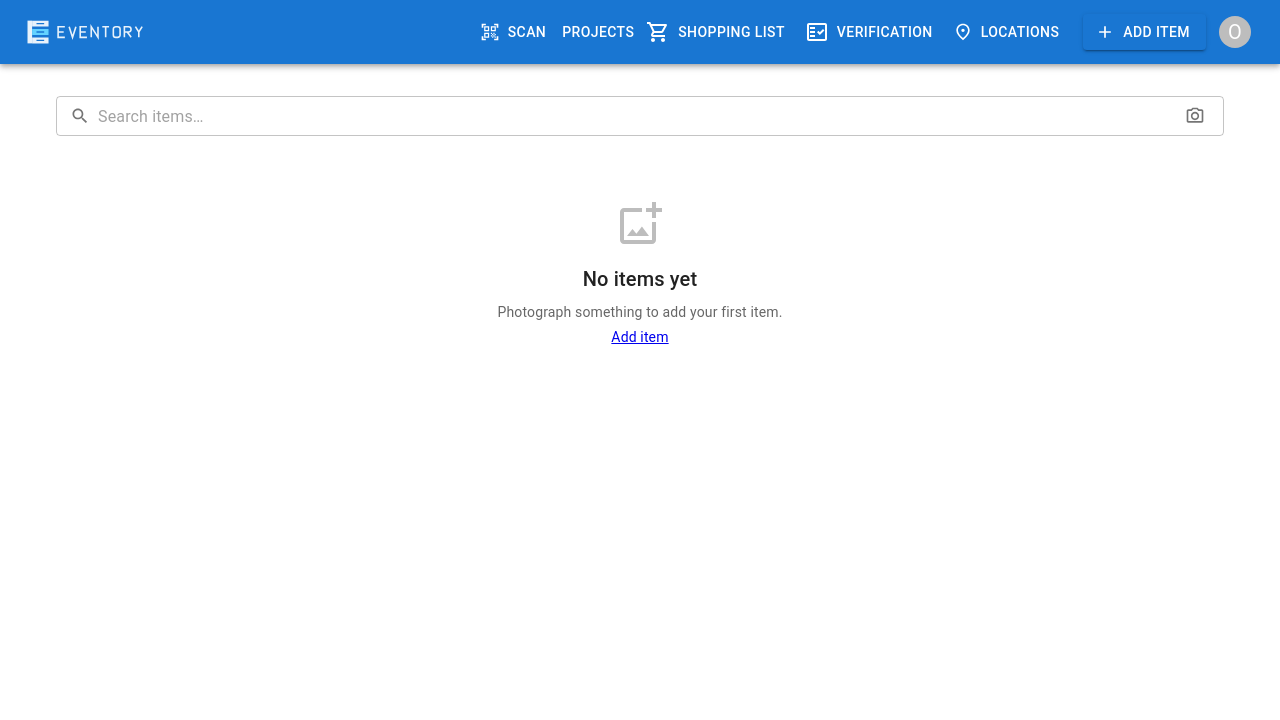
App / workspace UI (EVT-43) › AC3: "Switch workspace" in the avatar menu opens the switcher listing every workspace
Expected: the heading "No items yet" is shown, [583,267,697,291]
Click the button named "account menu". click: coordinates (1235, 32)
box: [1214,11,1256,53]
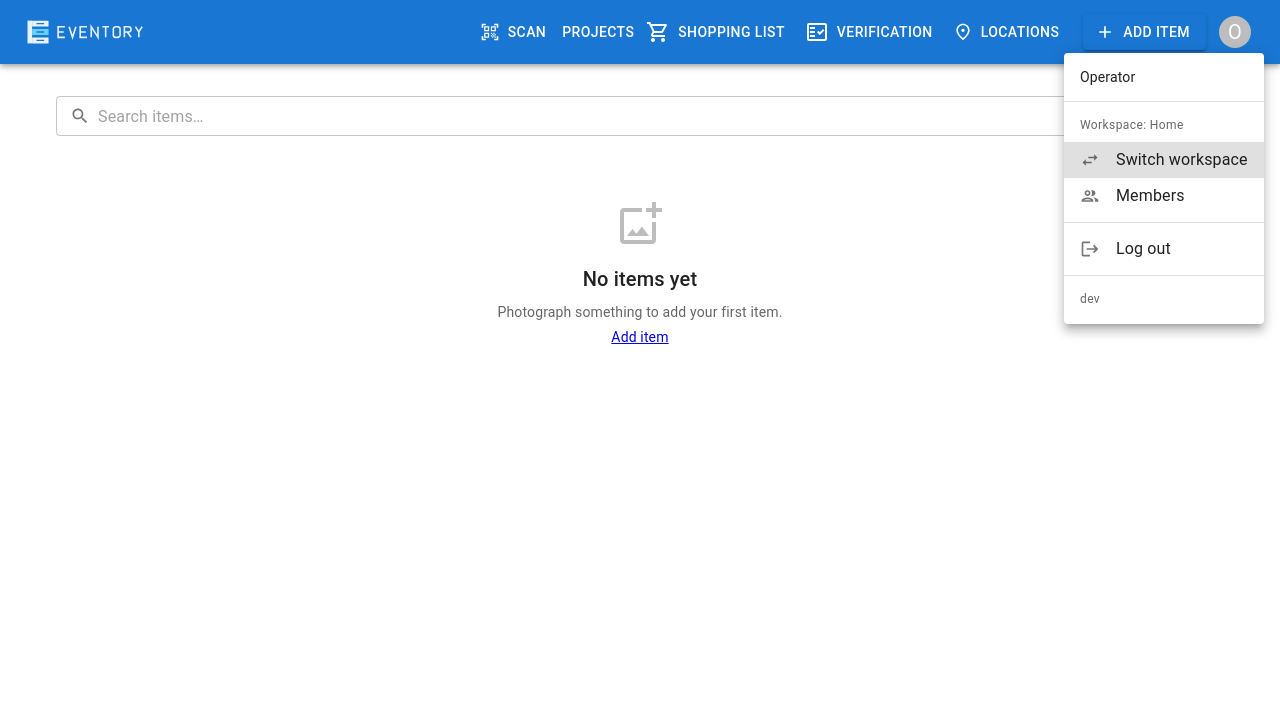
Click the menu item "Switch workspace". click: coordinates (1164, 160)
box: [1064,142,1264,178]
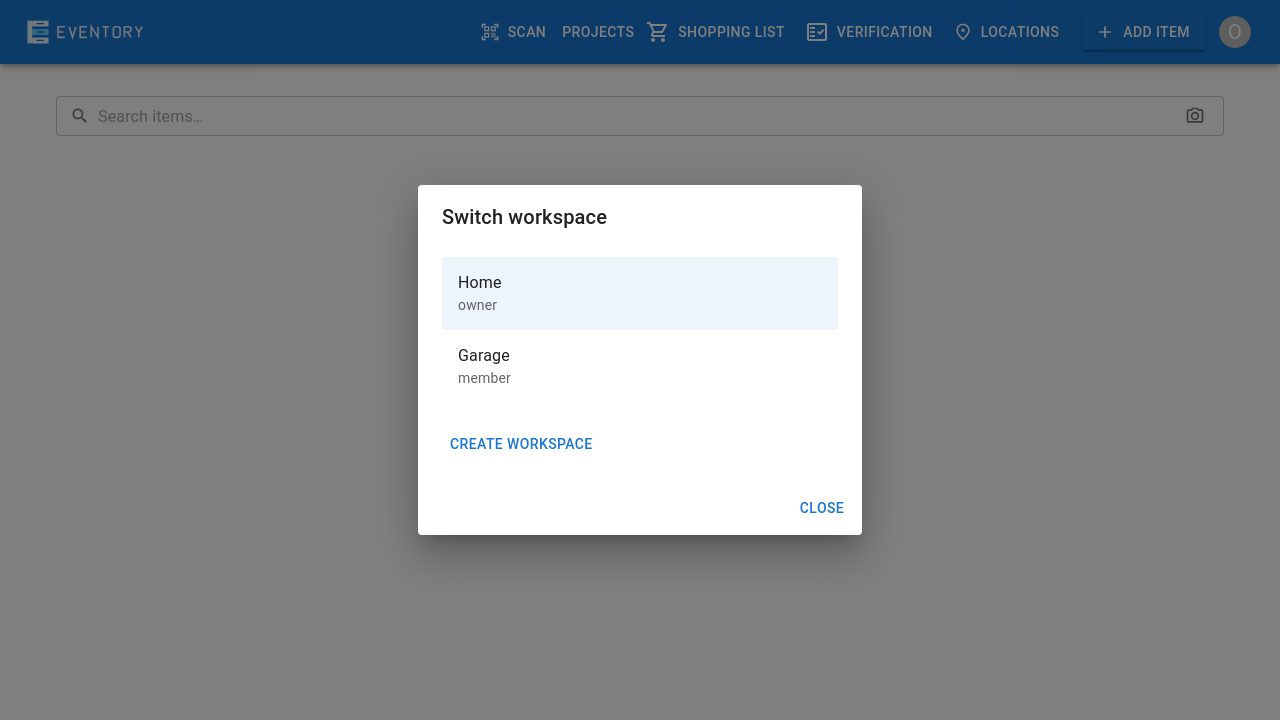
Now the text "Home" is shown, box [458,274,502,292]
Now the text "Garage" is shown, box [458,346,510,364]
